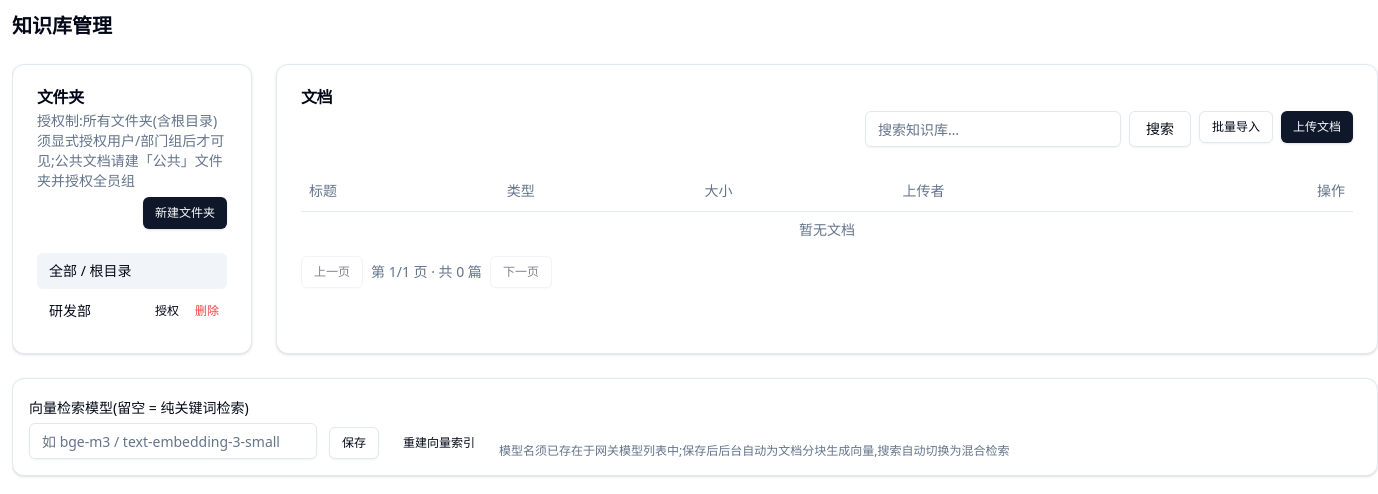
Test: Knowledge 知识库页 › 命中测试:输入关键词后渲染块级结果(标题路径 + score)
Expected: the button "研发部" is shown, [37,293,147,329]
Type "报销" into the field with placeholder "搜索知识库…" at (993, 129), box [865,111,1121,147]
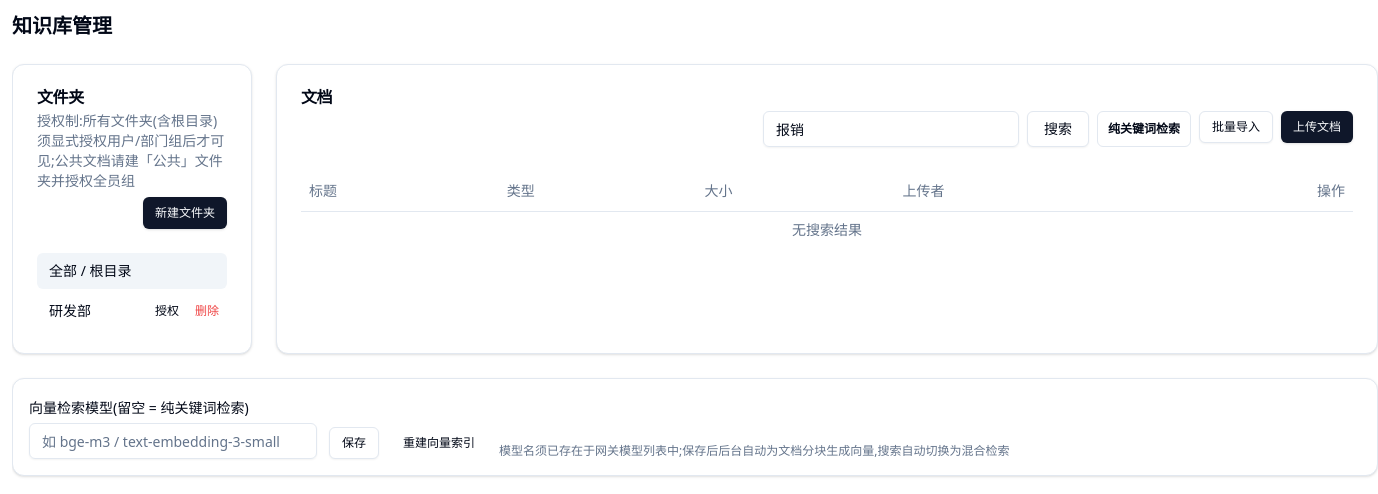
Click the button "搜索" at (1058, 129), box [1027,111,1089,147]
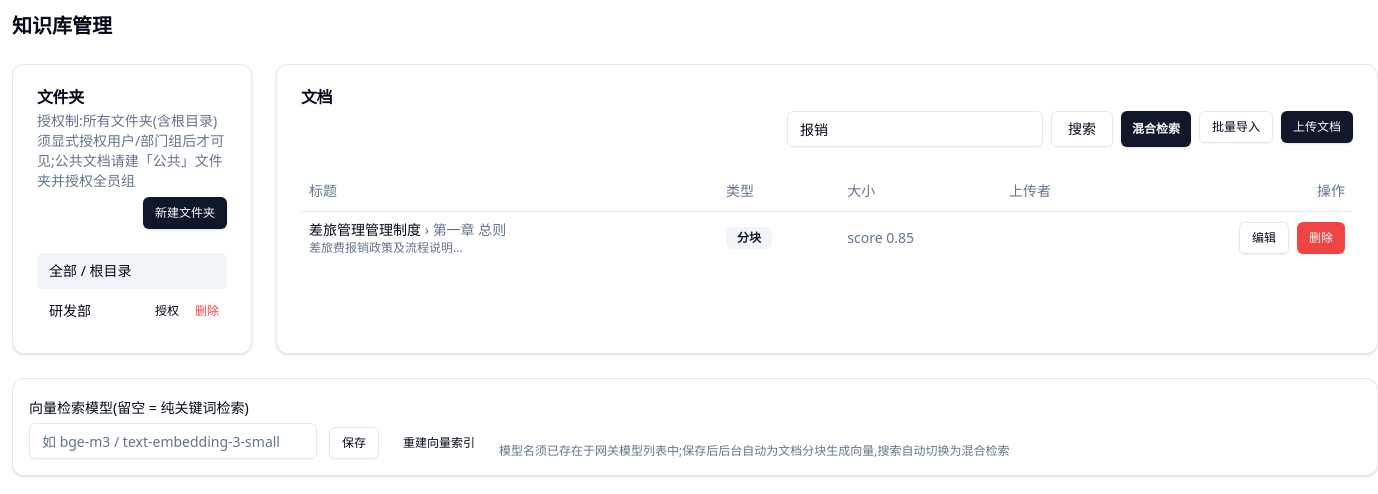
Expected: the text "差旅管理管理制度" is shown, [309,220,421,238]
Expected: the text "› 第一章 总则" is shown, [421,220,506,238]
Expected: the text "score 0.85" is shown, [839,211,1001,264]
